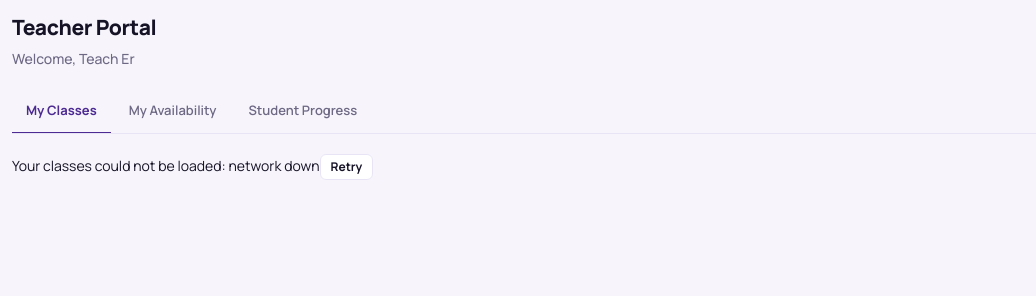
Test: My Classes with the corrected contract › shows an error with Retry when the request fails, not "No classes"
Expected: the text "Your classes could not be loaded: network down" is shown, x1=12 y1=156 x2=320 y2=175
Click the button "Retry" at (346, 167), box x1=320 y1=154 x2=373 y2=180
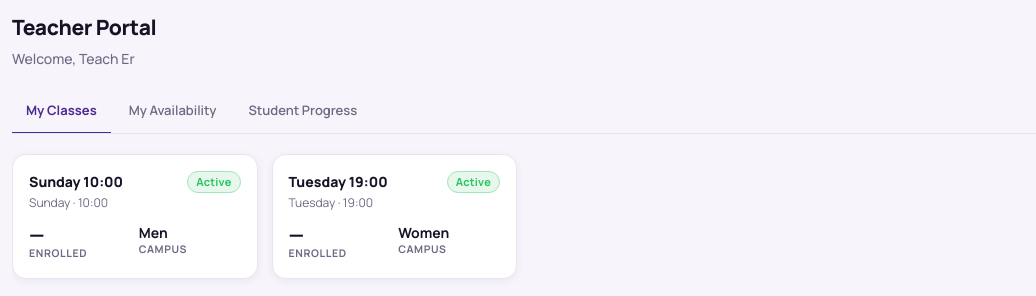
Expected: the text "Sunday 10:00" is shown, x1=29 y1=171 x2=123 y2=192
